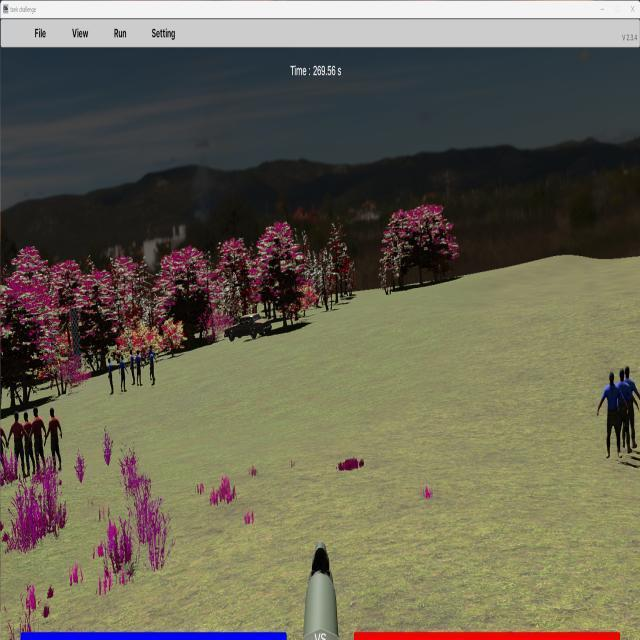Human: (597, 372, 629, 458), (608, 367, 640, 453), (8, 411, 30, 480), (28, 407, 47, 477), (44, 407, 63, 474), (0, 413, 7, 474)
car: (224, 313, 272, 342)
